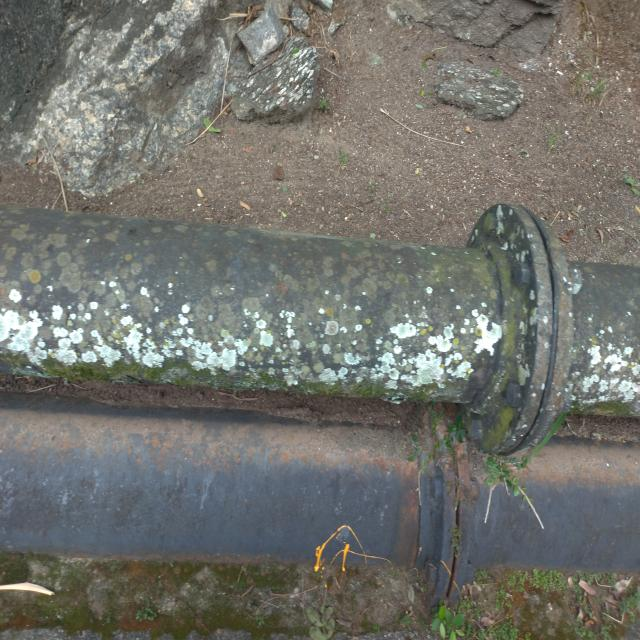gas: (2, 210, 639, 415), (1, 399, 640, 574)
